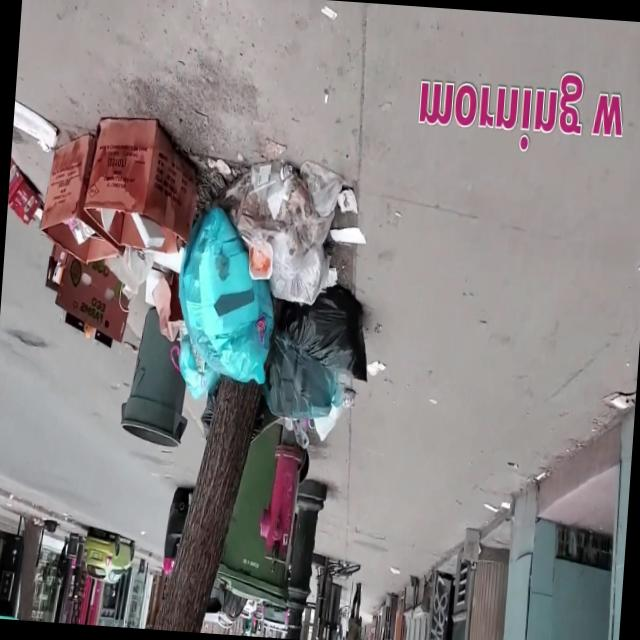high trash: (8, 100, 383, 448)
less trash: (603, 392, 636, 408)
